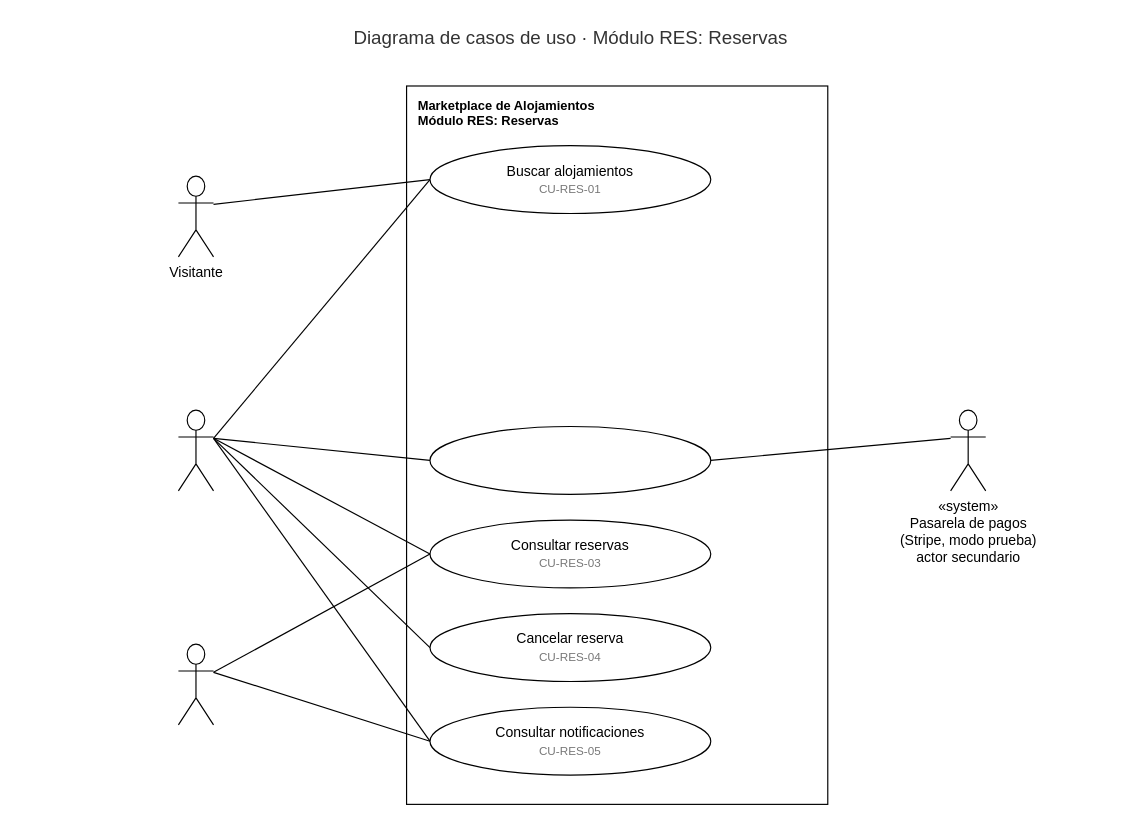
This 1140x825 diagram has some shape labels left out. The shapes that lost their labels are listed below. From the top down, each one's centre as x and y in pixels, then its label:
the point at 195,450: Huésped
the point at 570,459: Reservar alojamiento CU-RES-02
the point at 195,684: Anfitrión
